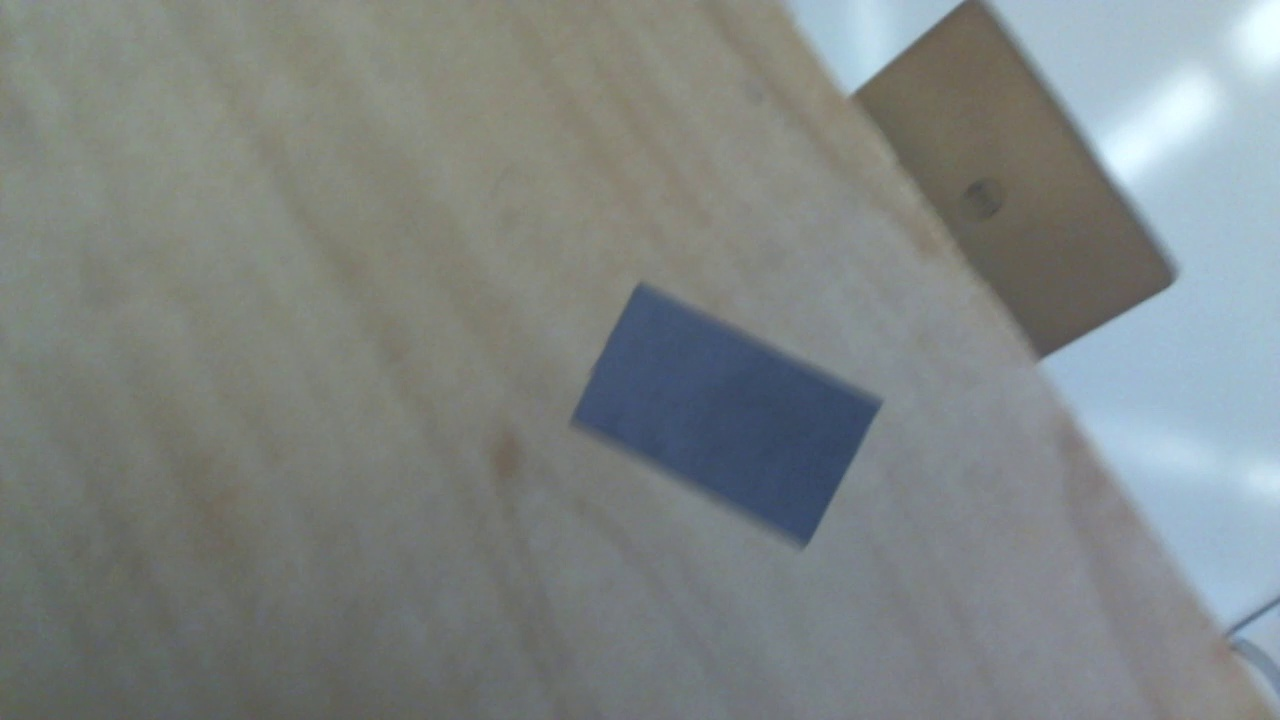Tape: (565, 280, 886, 553)
